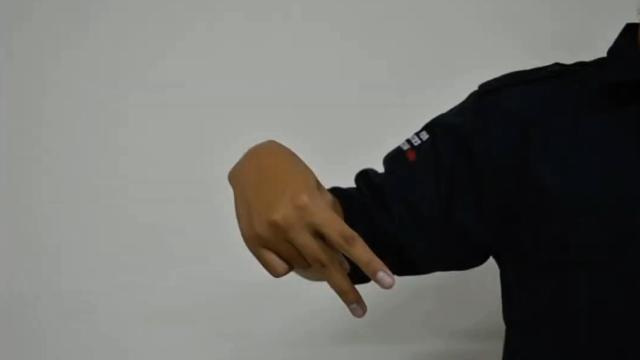P: (224, 134, 402, 322)
